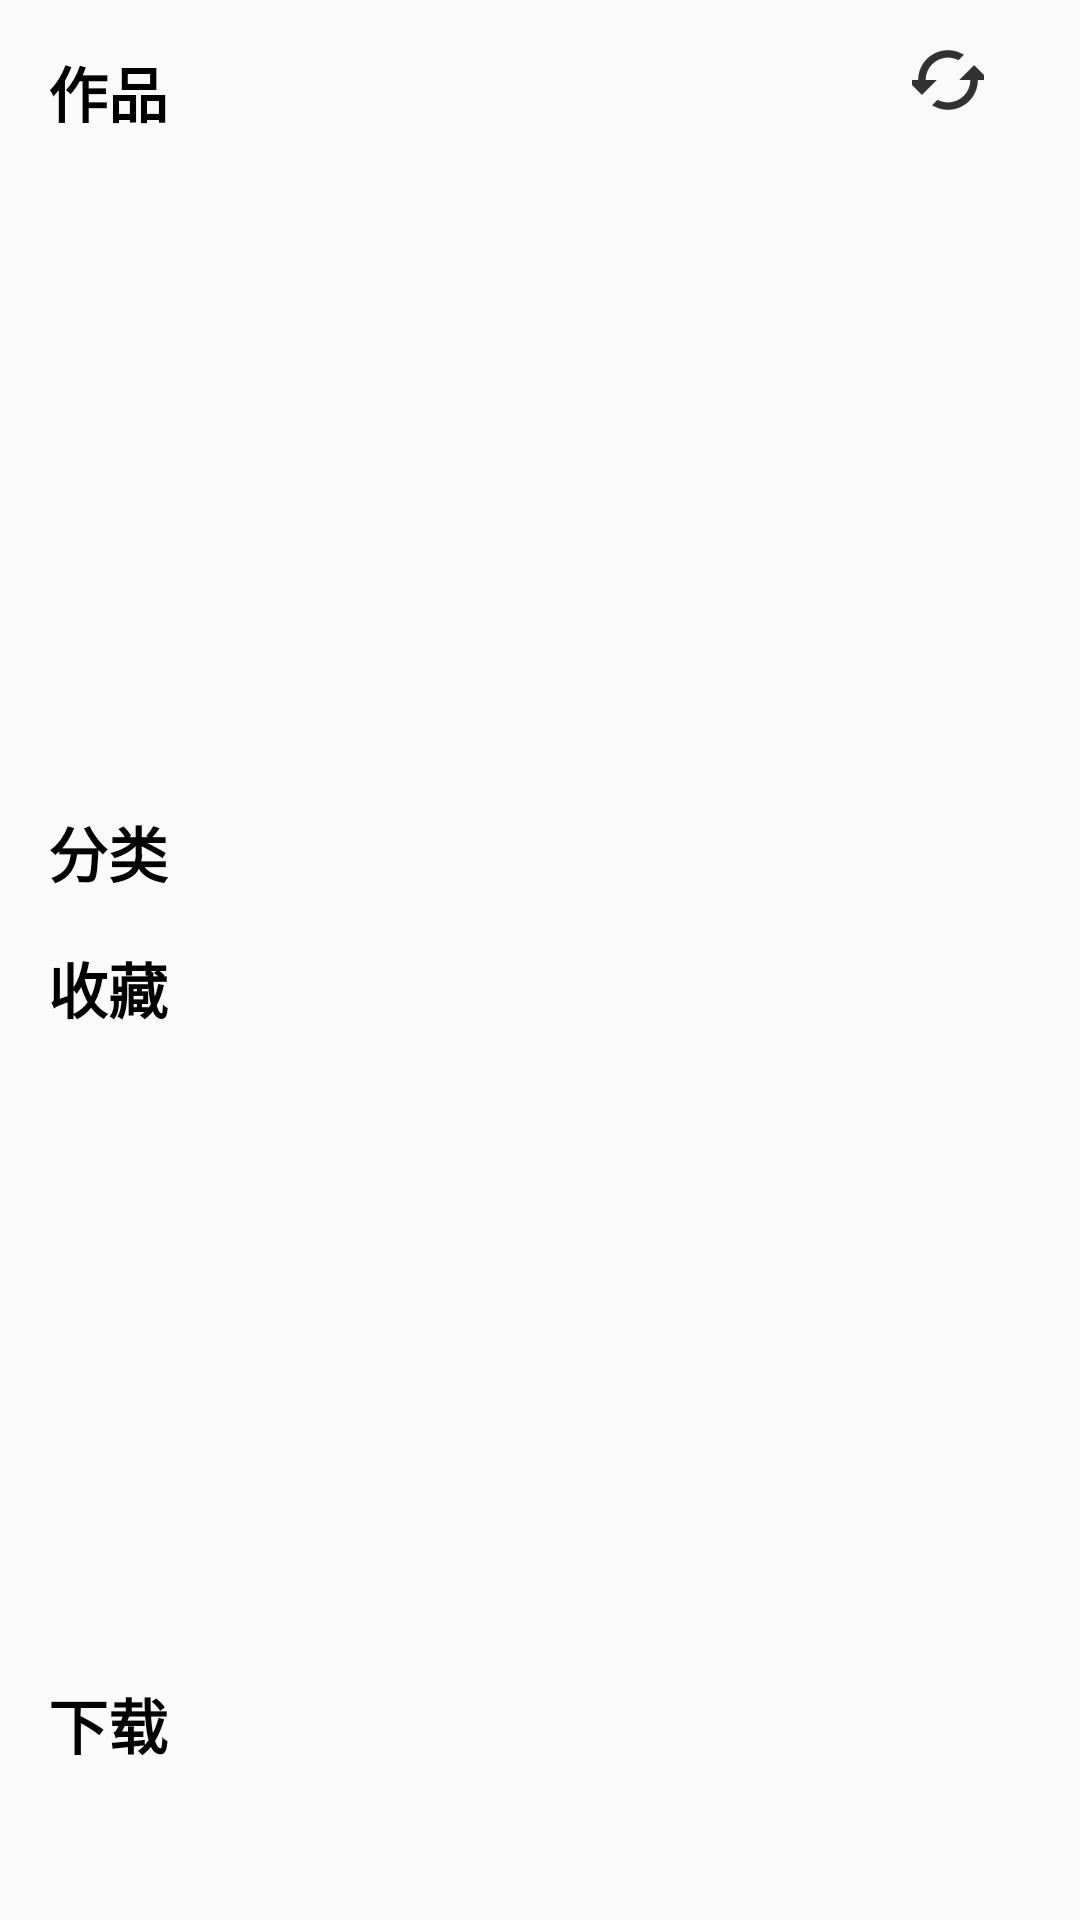

Where icons sit on this 1080x1920 app screen, as (x1, y1, x2, y2):
change: (912, 50, 984, 110)
